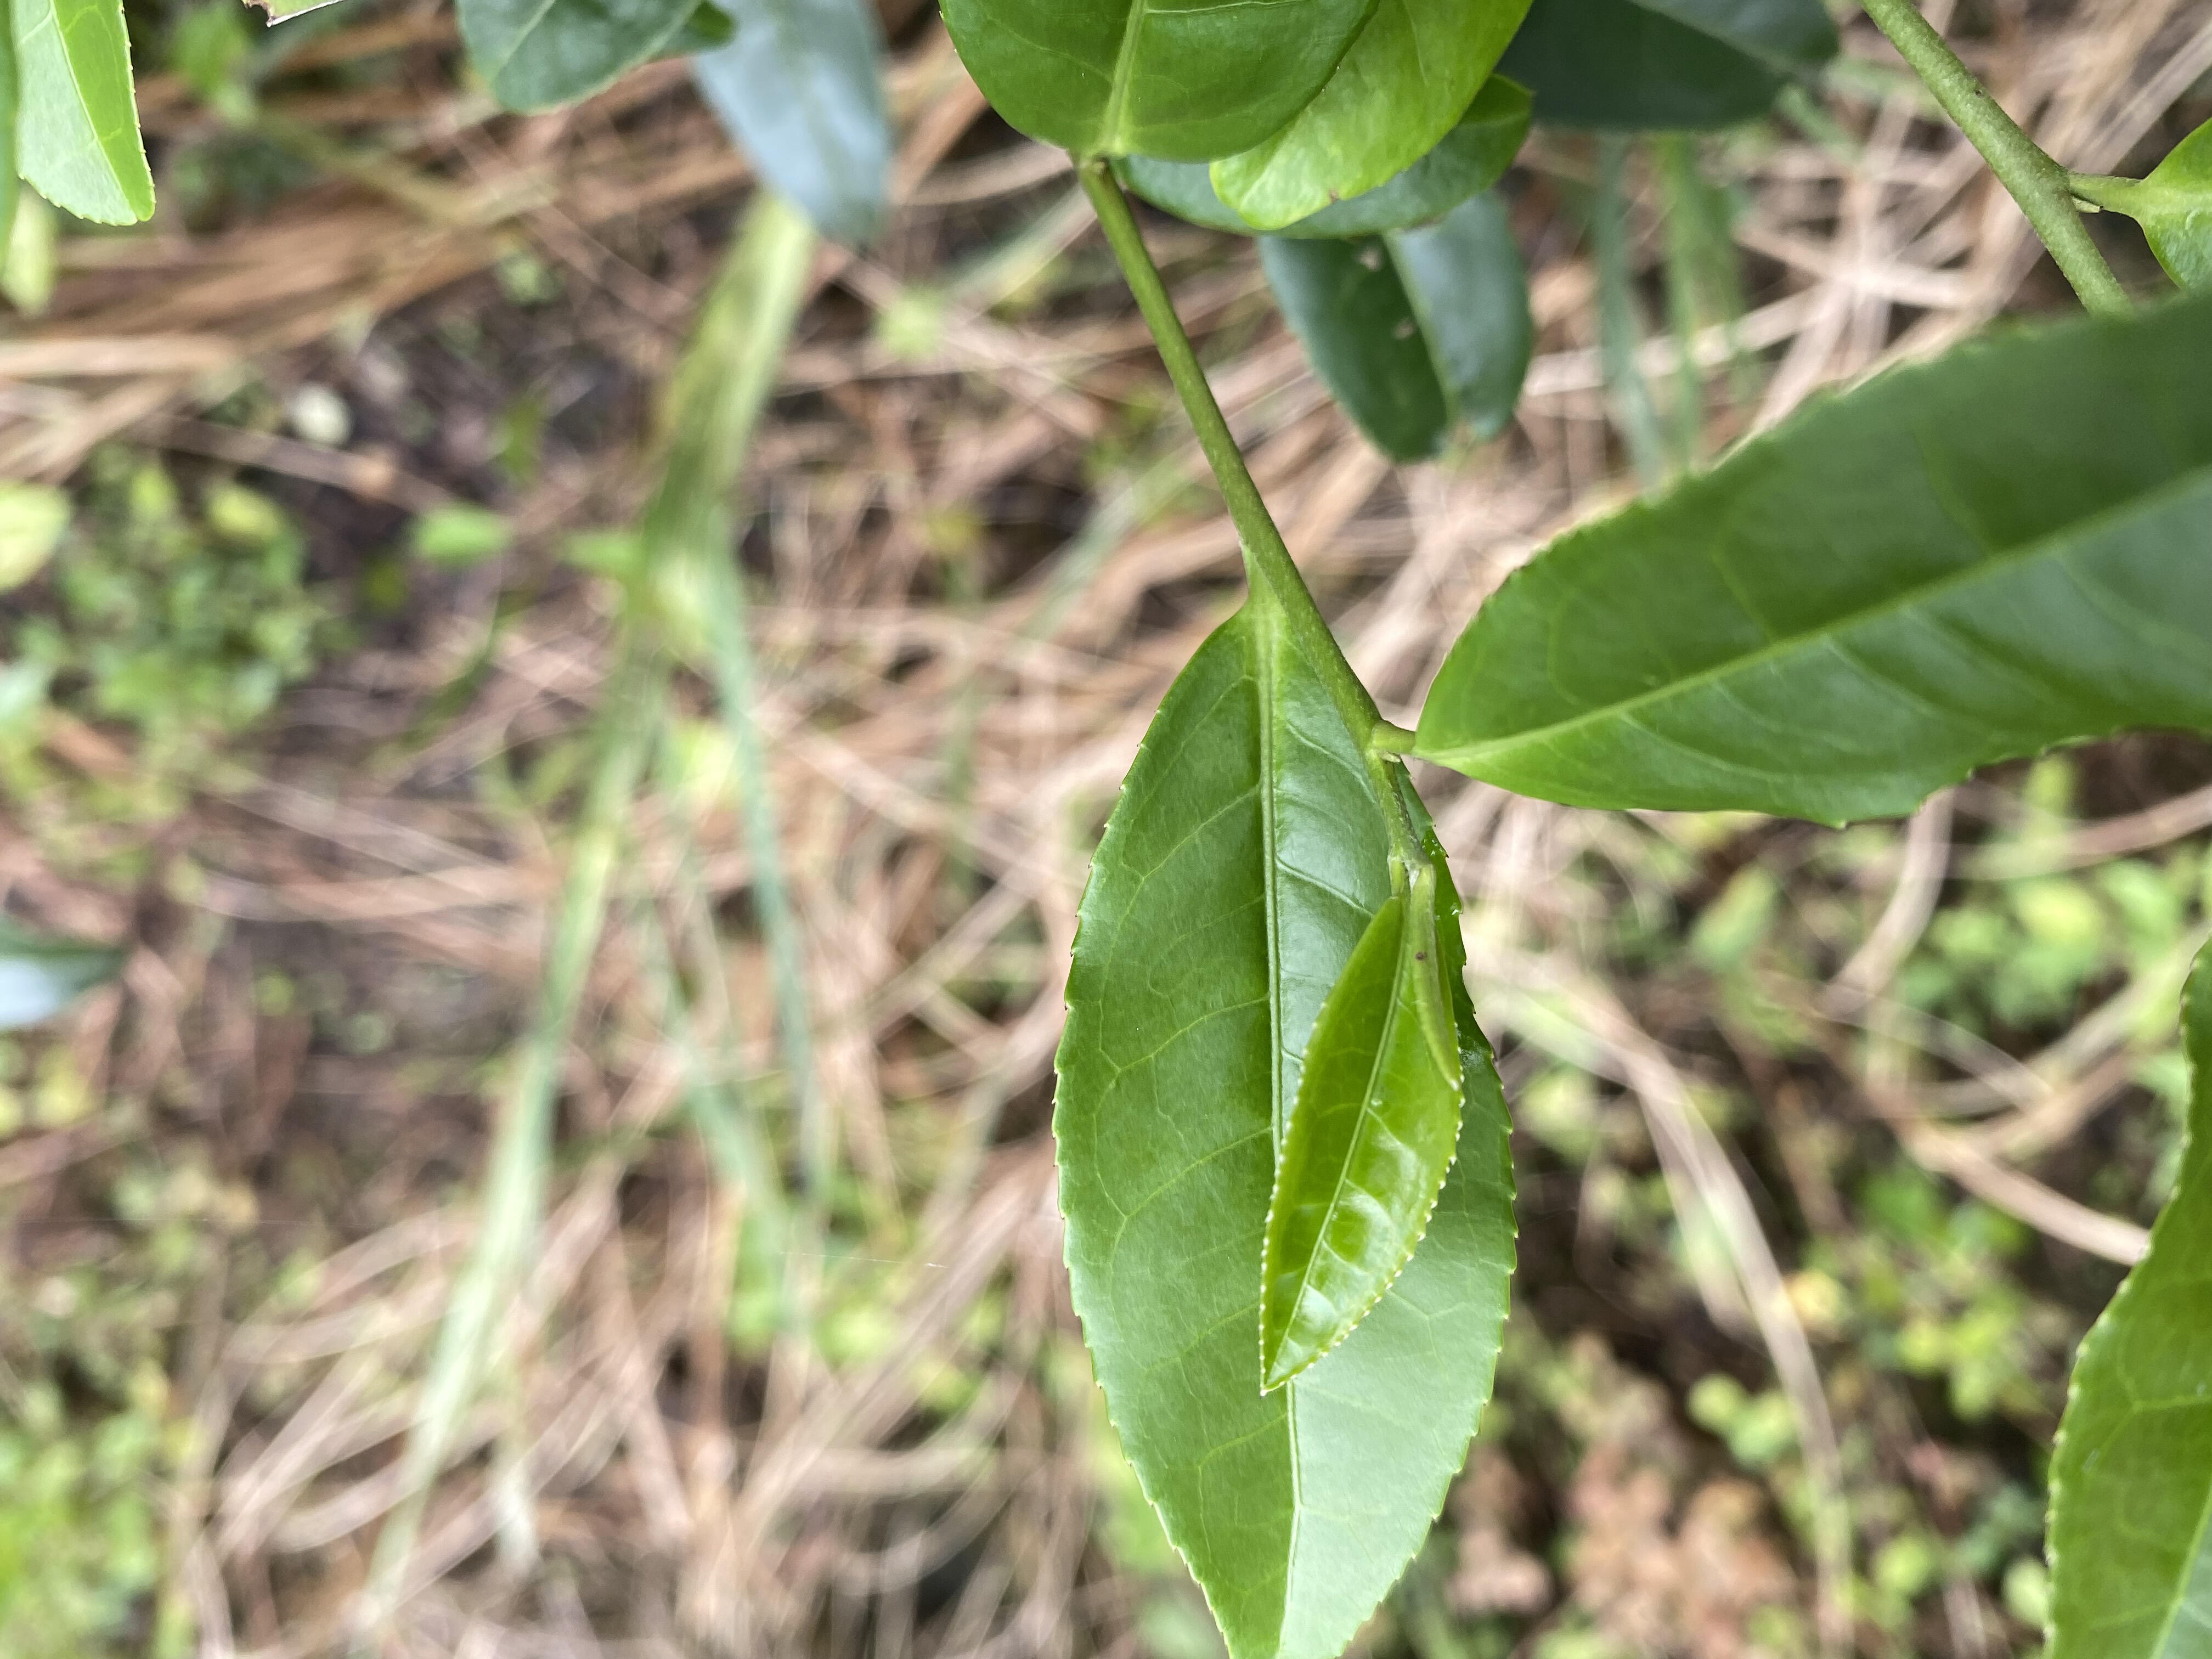healthy: (1052, 605, 1517, 1657), (1414, 284, 2210, 836), (1259, 889, 1468, 1394)
